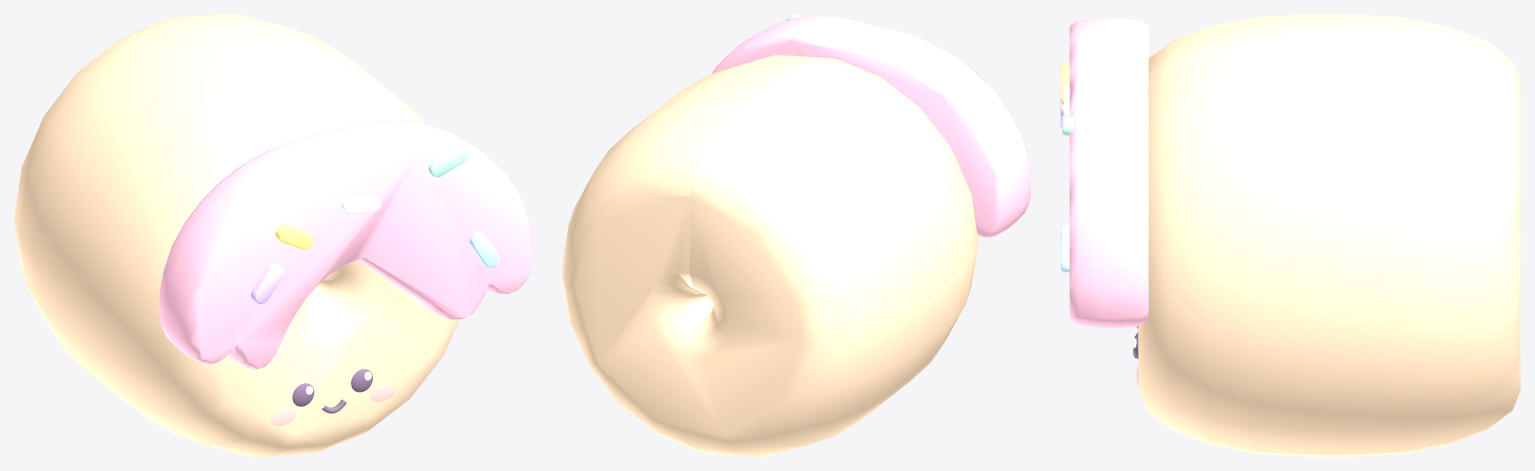
Rendered from squishy_donut.glb.
3 views of the same model, side by side, from view 1: azimuth 30°, elevation 25°; view 2: azimuth 150°, elevation 25°; view 3: azimuth 270°, elevation 25° (orthographic). The views are drawn at different scales.
Parts seen in each view (by area): view 1: donut; view 2: donut; view 3: donut.
Boxes of the visible parts, x1,y1,x2,y2 form: donut: [14, 14, 532, 456]; donut: [561, 14, 1031, 456]; donut: [1060, 14, 1520, 456].
Bounding box in the file's own units: 1 × 1 × 1.03.
